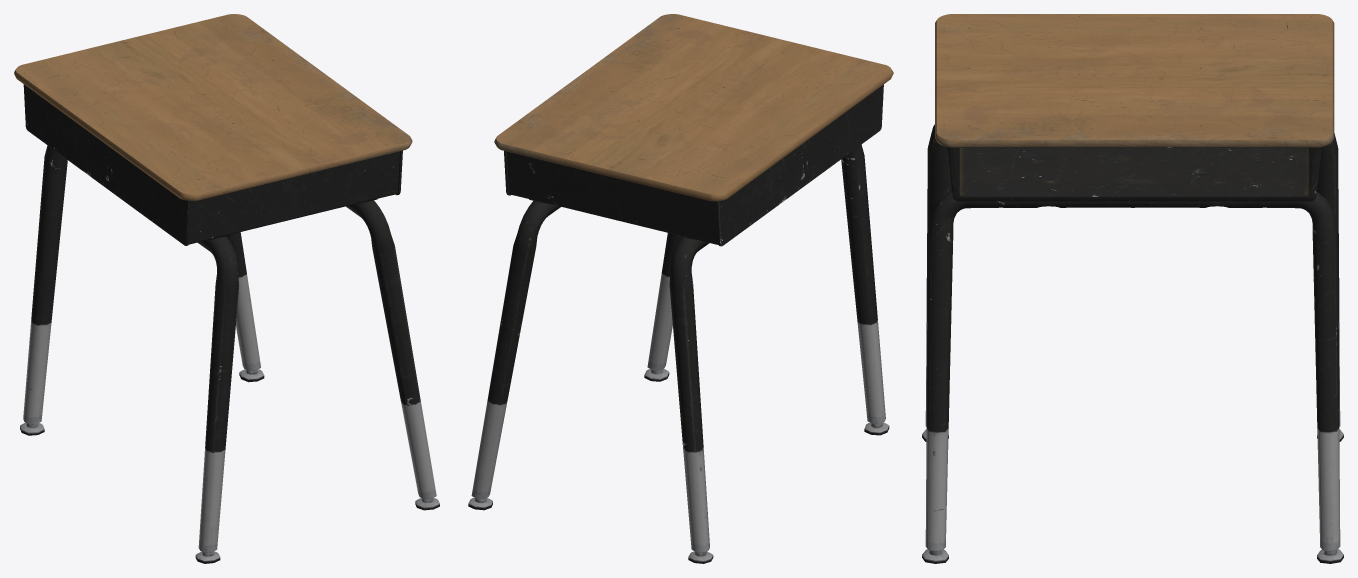
File: SM_Student_Desk_01a.fbx
The picture shows the model from 3 angles, left to right: view 1: azimuth 30°, elevation 25°; view 2: azimuth 150°, elevation 25°; view 3: azimuth 270°, elevation 25°; orthographic projection. The views are drawn at different scales.
Parts seen in each view (by area): view 1: SM_Student_Desk_01a_LOD0; view 2: SM_Student_Desk_01a_LOD0; view 3: SM_Student_Desk_01a_LOD0.
Boxes of the visible parts, x1,y1,x2,y2 form: SM_Student_Desk_01a_LOD0: (14,14,439,563); SM_Student_Desk_01a_LOD0: (468,14,893,563); SM_Student_Desk_01a_LOD0: (922,14,1343,563).
Size of the model in its own units: 68.69 by 88.56 by 95.61.
1 material, 1 textured.
